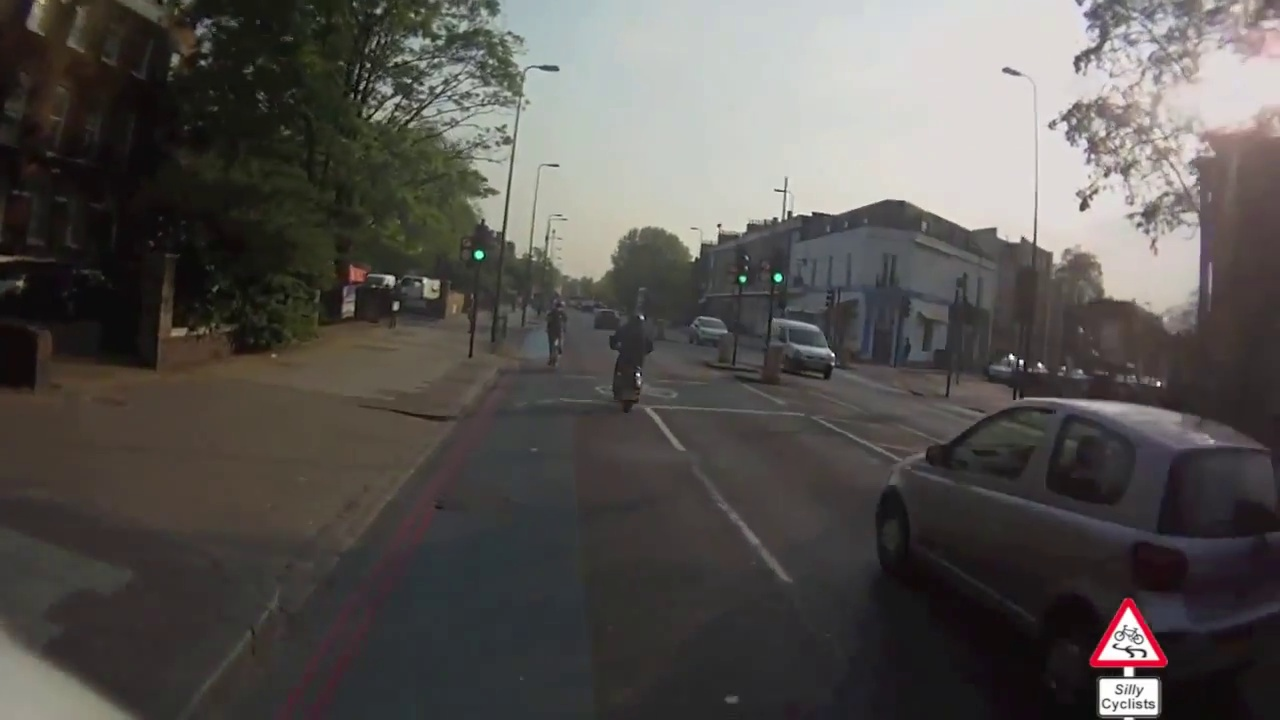cyclist_back: (604, 302, 657, 418), (543, 295, 569, 372)
